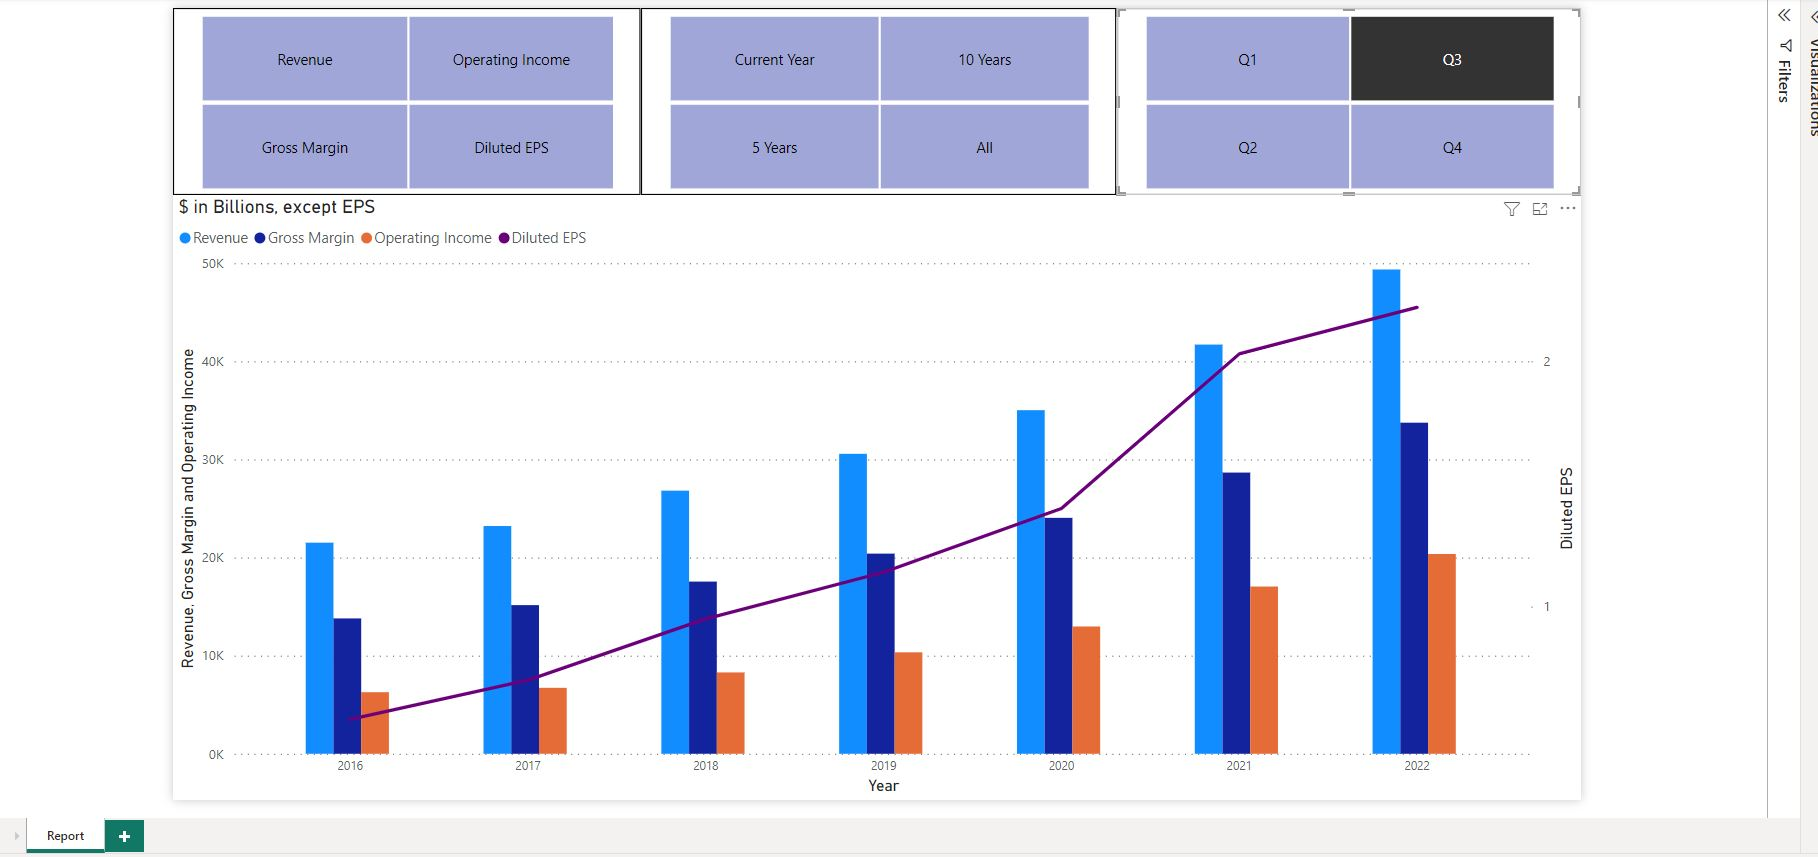

This screenshot's page, from the dashboard's own definition file:
{"tool":"powerbi","page":{"name":"Report","canvas":[1280,720],"ordinal":0},"visuals":[{"type":"lineClusteredColumnComboChart","title":"$ in Billions, except EPS","fields":{"Category":["PL Data.Year"],"Y":["SlicerData.Revenue","SlicerData.Gross Margin","SlicerData.Operating Income"],"Y2":["SlicerData.Diluted EPS"]},"box":[0,170,1279.1,550],"z":0},{"type":"slicer","fields":{"Values":["SlicerData.Label"]},"box":[0,0,425.5,170],"z":1000},{"type":"slicer","fields":{"Values":["SlicerYears.Label"]},"box":[425.5,0,431.8,170],"z":2000},{"type":"slicer","fields":{"Values":["PL Data.Qtr"]},"box":[858.2,0,421.8,170],"z":2001}]}

Visuals, with their boxes on the page's 1280x720 design canvas (x1, y1, x2, y2). These are canvas units, not pixel positions in the 1818x857 screenshot, which may show the page scaled, cropped or inside an application window:
"$ in Billions, except EPS" lineClusteredColumnComboChart: [0,170,1279,720]
slicer - SlicerData.Label: [0,0,426,170]
slicer - SlicerYears.Label: [426,0,857,170]
slicer - PL Data.Qtr: [858,0,1280,170]
